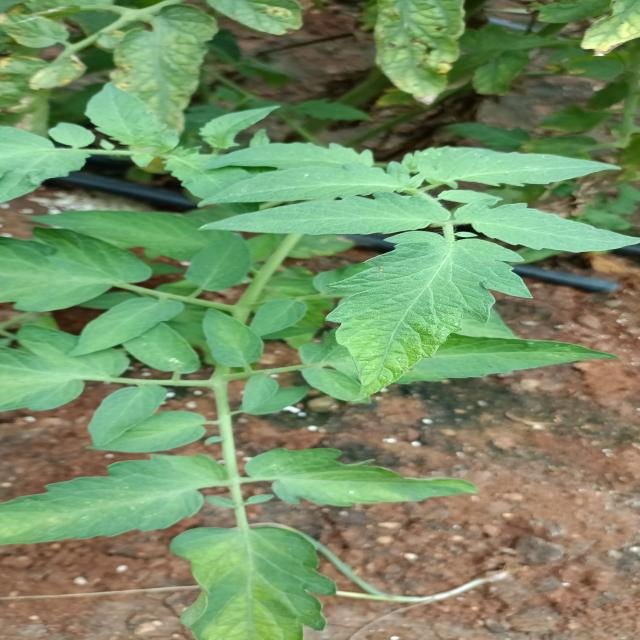Healthy Leaf: (307, 235, 518, 398), (165, 522, 368, 640), (0, 455, 222, 550), (250, 445, 481, 514), (188, 195, 442, 239), (403, 142, 634, 188), (461, 196, 640, 251), (86, 384, 155, 444)
